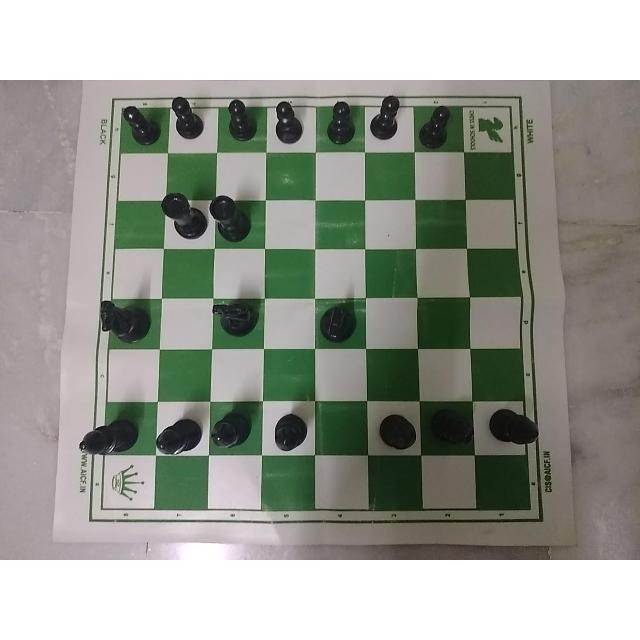black-bishop: (69, 411, 143, 468), (486, 396, 545, 452), (156, 409, 208, 460), (209, 407, 255, 458), (428, 407, 476, 455), (376, 410, 419, 462), (269, 407, 314, 454)
black-knight: (98, 296, 150, 346), (211, 293, 261, 341), (313, 297, 356, 345)
black-pawn: (417, 93, 457, 154), (171, 91, 211, 151), (369, 85, 408, 143), (272, 86, 304, 144), (118, 102, 160, 146), (226, 94, 257, 146), (327, 88, 355, 144)
black-rook: (213, 182, 261, 244), (160, 185, 208, 245)
